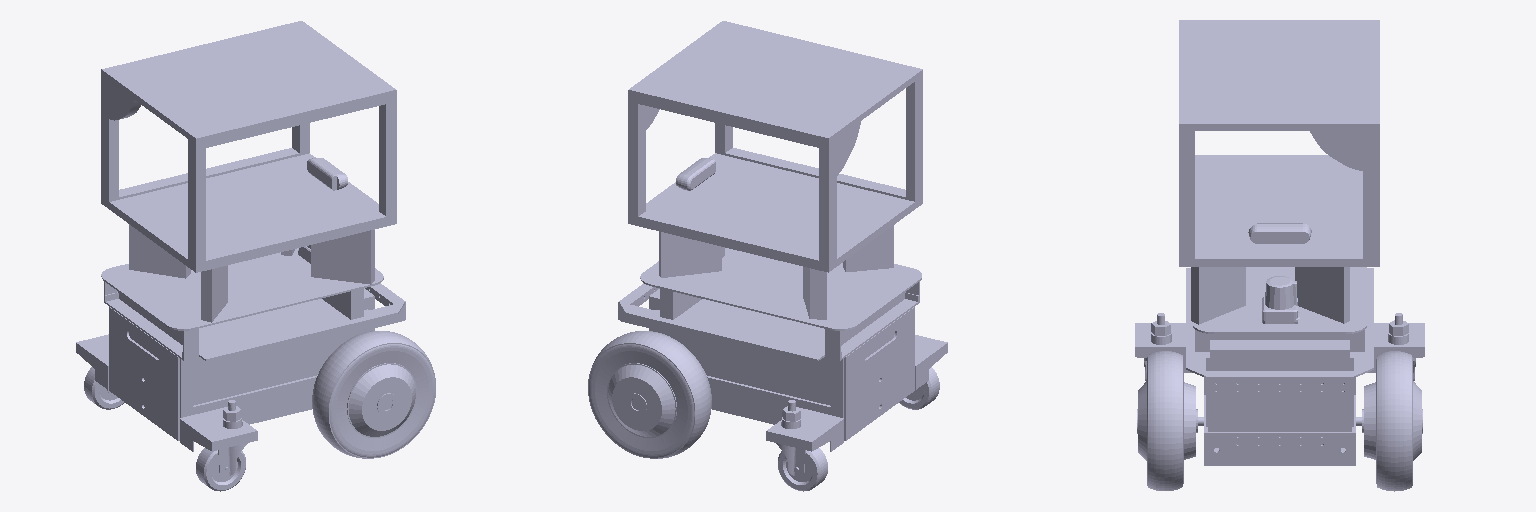
The robot description file, URDF, robot "krytn":
<?xml version="1.0" ?>
<robot name="krytn">
  <!--Generated by CROSS, a ROS Workbench for FreeCAD (https://github.com/galou/freecad.cross)-->
  <link name="base_footprint">
    <visual>
      <!--visual_base_footprint-->
      <origin rpy="0.0 -0.0 0.0" xyz="0.0 0.0 0.0"/>
      <geometry>
        <mesh filename="package://krytn_tray/meshes/krytn_tray_ex_visual_base_footprint_.dae"/>
      </geometry>
    </visual>
    <collision>
      <!--collision_base_footprint-->
      <origin rpy="0.0 -0.0 0.0" xyz="0.0 0.0 0.0"/>
      <geometry>
        <mesh filename="package://krytn_tray/meshes/krytn_tray_ex_collision_base_footprint_.dae"/>
      </geometry>
    </collision>
    <inertial>
      <mass value="0.0"/>
      <origin rpy="0.0 -0.0 0.0" xyz="0.0 0.0 0.0"/>
      <inertia ixx="0.0" ixy="0.0" ixz="0.0" iyy="0.0" iyz="0.0" izz="0.0"/>
    </inertial>
  </link>
  <link name="base_link">
    <visual>
      <!--visual_base_link/base_link_visual.-->
      <origin rpy="0.0 -0.0 0.0" xyz="-0.11 0.0 -0.029"/>
      <geometry>
        <mesh filename="package://krytn_tray/meshes/krytn_tray_ex_magni_body.dae.dae"/>
      </geometry>
    </visual>
    <collision>
      <!--collision_base_link/base_link_collision.-->
      <origin rpy="0.0 -0.0 0.0" xyz="-0.11 0.0 0.051"/>
      <geometry>
        <box size="0.398 0.268 0.16"/>
      </geometry>
    </collision>
    <collision>
      <!--collision_base_link/base_link_collision001.-->
      <origin rpy="0.0 -0.0 0.0" xyz="-0.136 0.0 0.148"/>
      <geometry>
        <box size="0.375 0.268 0.034"/>
      </geometry>
    </collision>
    <collision>
      <!--collision_base_link/base_link_collision002.-->
      <origin rpy="0.0 -0.0 0.0" xyz="-0.279 0.169 0.006"/>
      <geometry>
        <box size="0.1 0.07 0.07"/>
      </geometry>
    </collision>
    <collision>
      <!--collision_base_link/base_link_collision003.-->
      <origin rpy="0.0 -0.0 0.0" xyz="-0.279 -0.169 0.006"/>
      <geometry>
        <box size="0.1 0.07 0.07"/>
      </geometry>
    </collision>
    <inertial>
      <mass value="10.0"/>
      <origin rpy="0.0 -0.0 0.0" xyz="-0.15 0.0 0.03"/>
      <inertia ixx="0.059450809553" ixy="0.0" ixz="0.0" iyy="0.150753273032" iyz="0.0" izz="0.17270409758500002"/>
    </inertial>
  </link>
  <link name="left_wheel">
    <visual>
      <!--visual_left_wheel/left_wheel_visual.-->
      <origin rpy="0.0 -1.5707963267948966 0.0" xyz="-1.57652e-17 0.0 -0.071"/>
      <geometry>
        <mesh filename="package://krytn_tray/meshes/krytn_tray_ex_front_wheel.dae.dae"/>
      </geometry>
    </visual>
    <collision>
      <!--collision_left_wheel/left_wheel_collision.-->
      <origin rpy="0.0 -0.0 0.0" xyz="7.32747e-18 0.0 0.033"/>
      <geometry>
        <cylinder length="0.01" radius="0.1"/>
      </geometry>
    </collision>
    <inertial>
      <mass value="1.34"/>
      <origin rpy="-0.0 1.5707963267948966 0.0" xyz="0.0 0.0 0.0"/>
      <inertia ixx="0.003629165215000001" ixy="0.0" ixz="0.0" iyy="0.003629165215000001" iyz="0.0" izz="0.006700000000000001"/>
    </inertial>
  </link>
  <link name="right_wheel">
    <visual>
      <!--visual_right_wheel/right_wheel_visual.-->
      <origin rpy="-0.0 1.5707963267948961 0.0" xyz="1.57652e-17 0.0 0.071"/>
      <geometry>
        <mesh filename="package://krytn_tray/meshes/krytn_tray_ex_front_wheel.dae.dae"/>
      </geometry>
    </visual>
    <collision>
      <!--collision_right_wheel/right_wheel_collision.-->
      <origin rpy="0.0 -0.0 0.0" xyz="-7.32747e-18 0.0 -0.033"/>
      <geometry>
        <cylinder length="0.01" radius="0.1"/>
      </geometry>
    </collision>
    <inertial>
      <mass value="1.34"/>
      <origin rpy="-0.0 1.5707963267948966 0.0" xyz="0.0 0.0 0.0"/>
      <inertia ixx="0.003629165215000001" ixy="0.0" ixz="0.0" iyy="0.003629165215000001" iyz="0.0" izz="0.006700000000000001"/>
    </inertial>
  </link>
  <link name="left_caster_wheel">
    <visual>
      <!--visual_left_caster_wheel/left_caster_wheel_visual.-->
      <origin rpy="0.0 -0.0 3.141592653589793" xyz="-0.25 0.169 0.0"/>
      <geometry>
        <mesh filename="package://krytn_tray/meshes/krytn_tray_ex_caster_wheel.dae.dae"/>
      </geometry>
    </visual>
    <collision>
      <!--collision_left_caster_wheel/left_caster_wheel_collision.-->
      <geometry>
        <sphere radius="0.04"/>
      </geometry>
    </collision>
    <inertial>
      <mass value="0.0"/>
      <origin rpy="0.0 -0.0 0.0" xyz="0.0 0.0 0.0"/>
      <inertia ixx="0.0" ixy="0.0" ixz="0.0" iyy="0.0" iyz="0.0" izz="0.0"/>
    </inertial>
  </link>
  <link name="right_caster_wheel">
    <visual>
      <!--visual_right_caster_wheel/right_caster_wheel_visual.-->
      <origin rpy="0.0 -0.0 3.141592653589793" xyz="-0.25 -0.169 0.0"/>
      <geometry>
        <mesh filename="package://krytn_tray/meshes/krytn_tray_ex_caster_wheel.dae.dae"/>
      </geometry>
    </visual>
    <collision>
      <!--collision_right_caster_wheel/right_caster_wheel_collision.-->
      <geometry>
        <sphere radius="0.04"/>
      </geometry>
    </collision>
    <inertial>
      <mass value="0.0"/>
      <origin rpy="0.0 -0.0 0.0" xyz="0.0 0.0 0.0"/>
      <inertia ixx="0.0" ixy="0.0" ixz="0.0" iyy="0.0" iyz="0.0" izz="0.0"/>
    </inertial>
  </link>
  <link name="realsense_link">
    <visual>
      <!--visual_realsense_link/realsense_link_visual.-->
      <origin rpy="0.0 -0.0 1.5707963267948966" xyz="0.0 0.0 0.0"/>
      <geometry>
        <mesh filename="package://krytn_tray/meshes/krytn_tray_ex_realsense.dae.dae"/>
      </geometry>
    </visual>
    <collision>
      <!--collision_realsense_link/realsense_link_collision.-->
      <origin rpy="0.0 -0.0 1.5707963267948966" xyz="0.0 0.0 0.0"/>
      <geometry>
        <mesh filename="package://krytn_tray/meshes/krytn_tray_ex_realsense.dae.dae"/>
      </geometry>
    </collision>
    <inertial>
      <mass value="0.06"/>
      <origin rpy="0.0 -0.0 0.0" xyz="-0.15 0.0 0.03"/>
      <inertia ixx="5.04999798e-05" ixy="0.0" ixz="0.0" iyy="2.499999e-06" iyz="0.0" izz="5.19999792e-05"/>
    </inertial>
  </link>
  <link name="lidar_2d_link">
    <visual>
      <!--visual_lidar_2d_link/lidar_2d_link_visual.-->
      <origin rpy="0.0 -0.0 0.0" xyz="0.0 0.0 0.0"/>
      <geometry>
        <mesh filename="package://krytn_tray/meshes/krytn_tray_ex_lidar_2d_v1.dae.dae"/>
      </geometry>
    </visual>
    <collision>
      <!--collision_lidar_2d_link/lidar_2d_link_collision.-->
      <origin rpy="0.0 -0.0 0.0" xyz="0.0 0.0 0.0"/>
      <geometry>
        <box size="0.05001062 0.05001062 0.035003035"/>
      </geometry>
    </collision>
    <collision>
      <!--collision_lidar_2d_link/lidar_2d_link_collision001.-->
      <origin rpy="0.0 -0.0 0.0" xyz="0.0 0.0 0.0"/>
      <geometry>
        <cylinder length="0.035003035" radius="0.02"/>
      </geometry>
    </collision>
    <inertial>
      <mass value="0.13"/>
      <origin rpy="0.0 -0.0 0.0" xyz="-0.15 0.0 0.03"/>
      <inertia ixx="0.0027180822461000003" ixy="0.0" ixz="0.0" iyy="3.6833318600000004e-05" iyz="0.0" izz="0.0027354155725000003"/>
    </inertial>
  </link>
  <link name="krytn_tray">
    <visual>
      <!--Krytn tray part/Body.-->
      <origin rpy="0.0 -0.0 0.0" xyz="0.0 0.0 0.0"/>
      <geometry>
        <mesh filename="package://krytn_tray/meshes/krytn_tray_ex_Krytn_Tray.dae"/>
      </geometry>
    </visual>
    <collision>
      <!--Krytn tray part/Body.-->
      <origin rpy="0.0 -0.0 0.0" xyz="0.0 0.0 0.0"/>
      <geometry>
        <mesh filename="package://krytn_tray/meshes/krytn_tray_ex_Krytn_Tray.dae"/>
      </geometry>
    </collision>
    <inertial>
      <mass value="0.0"/>
      <origin rpy="0.0 -0.0 0.0" xyz="0.0 0.0 0.0"/>
      <inertia ixx="0.0" ixy="0.0" ixz="0.0" iyy="0.0" iyz="0.0" izz="0.0"/>
    </inertial>
  </link>
  <joint name="base_footprint_joint" type="fixed">
    <parent link="base_footprint"/>
    <child link="base_link"/>
    <origin rpy="0.0 -0.0 0.0" xyz="0.0 0.0 0.1"/>
  </joint>
  <joint name="left_wheel_joint" type="continuous">
    <parent link="base_link"/>
    <child link="left_wheel"/>
    <origin rpy="-1.5707963267948966 1.5707963267948963 0.0" xyz="0.0 0.163 0.0"/>
    <axis xyz="0 0 1"/>
  </joint>
  <joint name="right_wheel_joint" type="continuous">
    <parent link="base_link"/>
    <child link="right_wheel"/>
    <origin rpy="-1.5707963267948966 1.5707963267948963 0.0" xyz="0.0 -0.163 0.0"/>
    <axis xyz="0 0 1"/>
  </joint>
  <joint name="left_caster_wheel_joint" type="fixed">
    <parent link="base_link"/>
    <child link="left_caster_wheel"/>
    <origin rpy="0.0 -0.0 0.0" xyz="0.0 0.0 0.0"/>
  </joint>
  <joint name="right_caster_wheel_joint" type="fixed">
    <parent link="base_link"/>
    <child link="right_caster_wheel"/>
    <origin rpy="0.0 -0.0 0.0" xyz="0.0 0.0 0.0"/>
  </joint>
  <joint name="realsense_joint" type="fixed">
    <parent link="base_link"/>
    <child link="realsense_link"/>
    <origin rpy="0.0 -0.0 0.0" xyz="0.0 0.0 0.3"/>
  </joint>
  <joint name="lidar_2d_joint" type="fixed">
    <parent link="base_link"/>
    <child link="lidar_2d_link"/>
    <origin rpy="0.0 -0.0 0.0" xyz="0.0 0.0 0.15"/>
  </joint>
  <joint name="tray_joint" type="fixed">
    <parent link="base_link"/>
    <child link="krytn_tray"/>
    <origin rpy="0.0 -0.0 1.5707963267948966" xyz="-0.3 0.01 0.168"/>
  </joint>
</robot>

--- Render facts (derived) ---
3 views of the same robot in one strip: view 1: azimuth 30°, elevation 25°; view 2: azimuth 150°, elevation 25°; view 3: azimuth 270°, elevation 25° (orthographic).
Model krytn with 9 links and 8 joints (2 continuous, 6 fixed), rooted at base_footprint, posed every joint at zero.
Links seen in each view (by area): view 1: krytn_tray, base_link, right_wheel, right_caster_wheel, realsense_link, left_caster_wheel; view 2: krytn_tray, base_link, left_wheel, left_caster_wheel, realsense_link, right_caster_wheel; view 3: krytn_tray, base_link, right_wheel, left_wheel, lidar_2d_link, realsense_link, left_caster_wheel, right_caster_wheel.
Link boxes in pixels (x1=…): krytn_tray: x1=101, y1=21, x2=396, y2=322; base_link: x1=76, y1=248, x2=405, y2=451; right_wheel: x1=312, y1=331, x2=435, y2=458; right_caster_wheel: x1=196, y1=400, x2=247, y2=491; realsense_link: x1=307, y1=158, x2=347, y2=190; left_caster_wheel: x1=84, y1=367, x2=124, y2=409; krytn_tray: x1=628, y1=21, x2=922, y2=319; base_link: x1=618, y1=248, x2=947, y2=451; left_wheel: x1=588, y1=331, x2=711, y2=458; left_caster_wheel: x1=776, y1=400, x2=827, y2=491; realsense_link: x1=676, y1=158, x2=715, y2=190; right_caster_wheel: x1=899, y1=367, x2=939, y2=409; krytn_tray: x1=1179, y1=20, x2=1379, y2=324; base_link: x1=1135, y1=267, x2=1424, y2=465; right_wheel: x1=1137, y1=351, x2=1203, y2=490; left_wheel: x1=1356, y1=351, x2=1422, y2=491; lidar_2d_link: x1=1262, y1=276, x2=1299, y2=323; realsense_link: x1=1248, y1=223, x2=1311, y2=243; left_caster_wheel: x1=1388, y1=313, x2=1415, y2=380; right_caster_wheel: x1=1144, y1=313, x2=1171, y2=380.
Bounding box of the posed robot: 0.423 × 0.412 × 0.5895 m (x, y, z).
8 mesh visuals loaded from 7 distinct referenced files (6 Collada DAE); not drawn: 1 (file found but could not be loaded).
